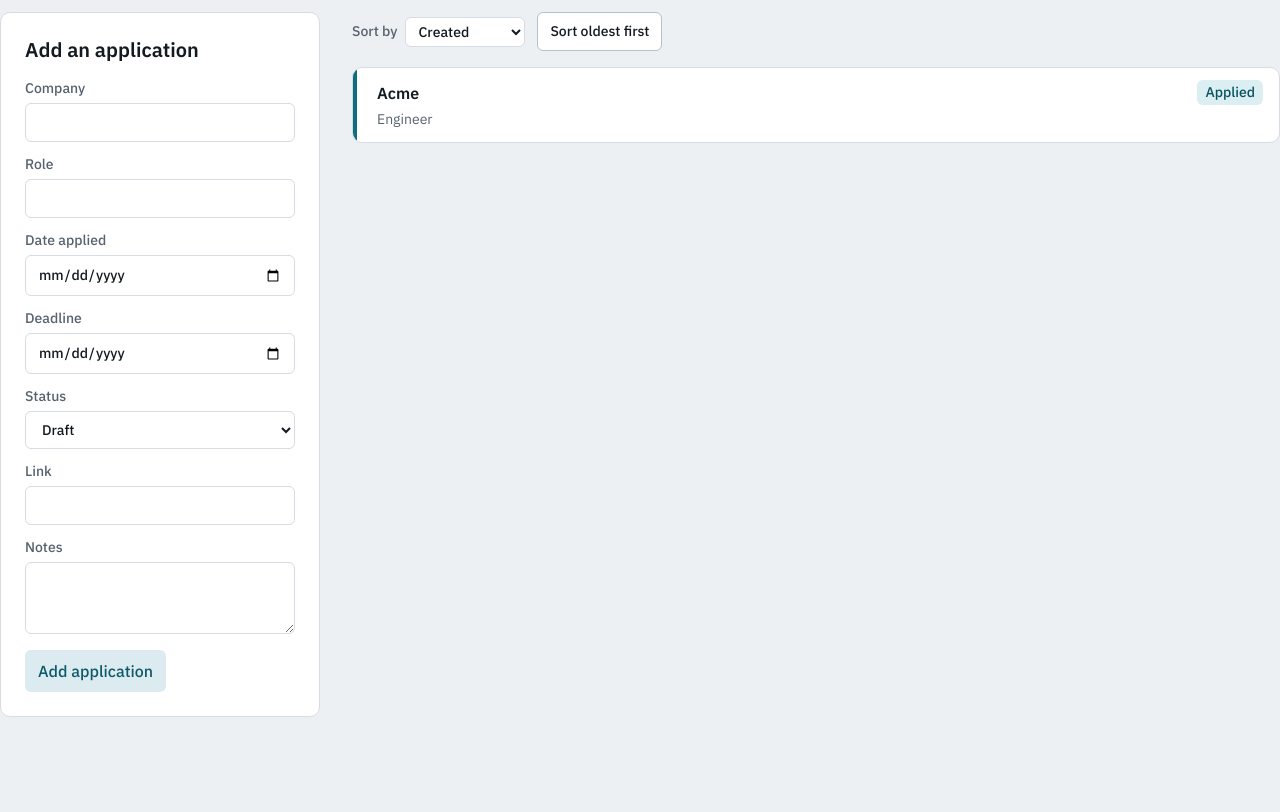
Test: a failed add shows the server error message
Expected: the button "Acme Engineer Applied" is shown, [377,80,1263,130]
Type "Globex" into the field labelled "Company" at (160, 122), box [25,103,295,142]
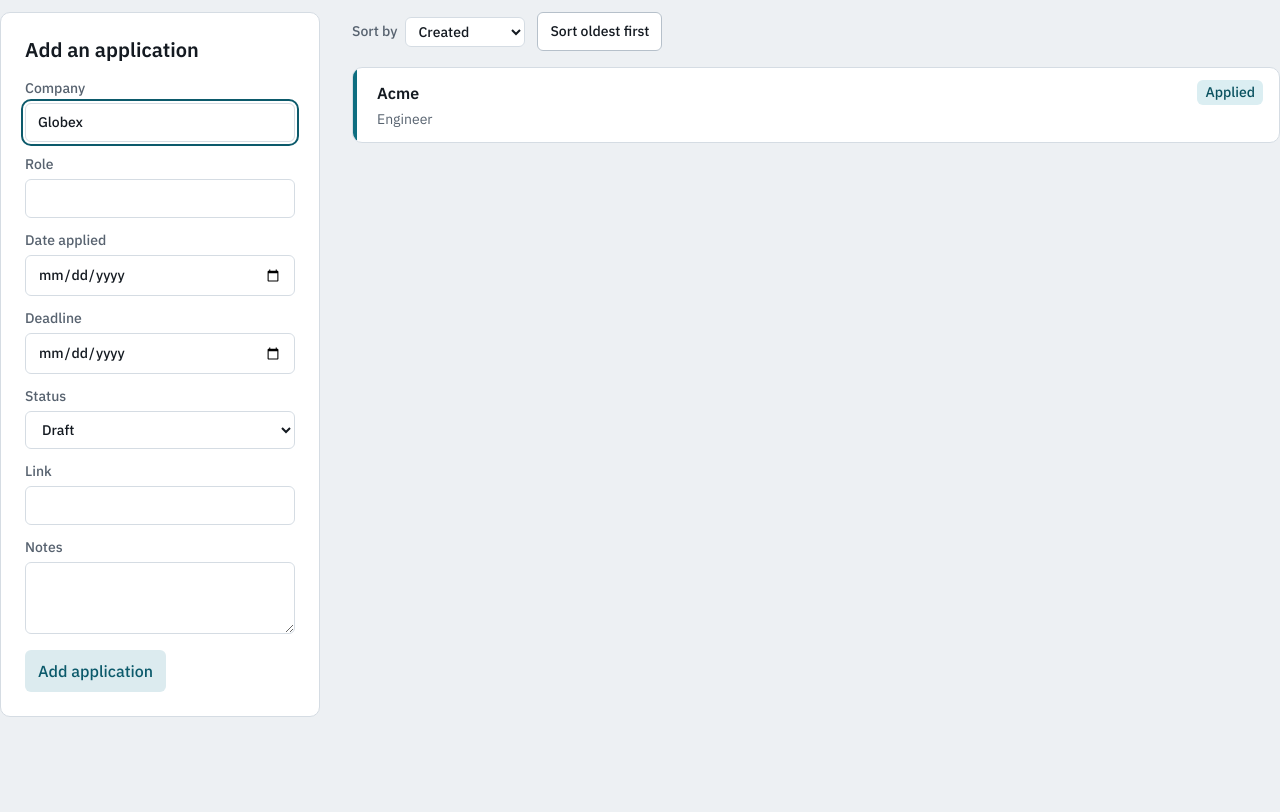
Type "Engineer" into the field labelled "Role" at (160, 198), box [25,179,295,218]
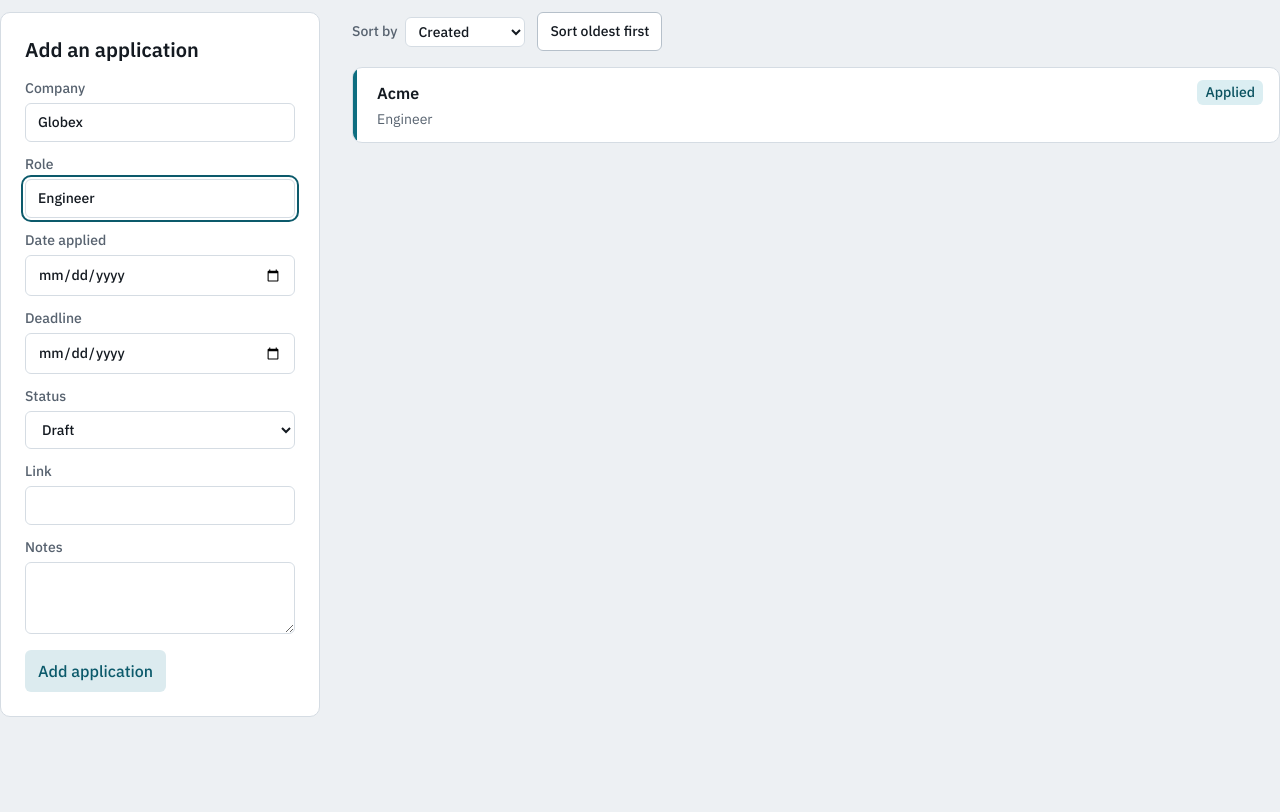
Click the button "Add application" at (96, 671), box [25,650,166,692]
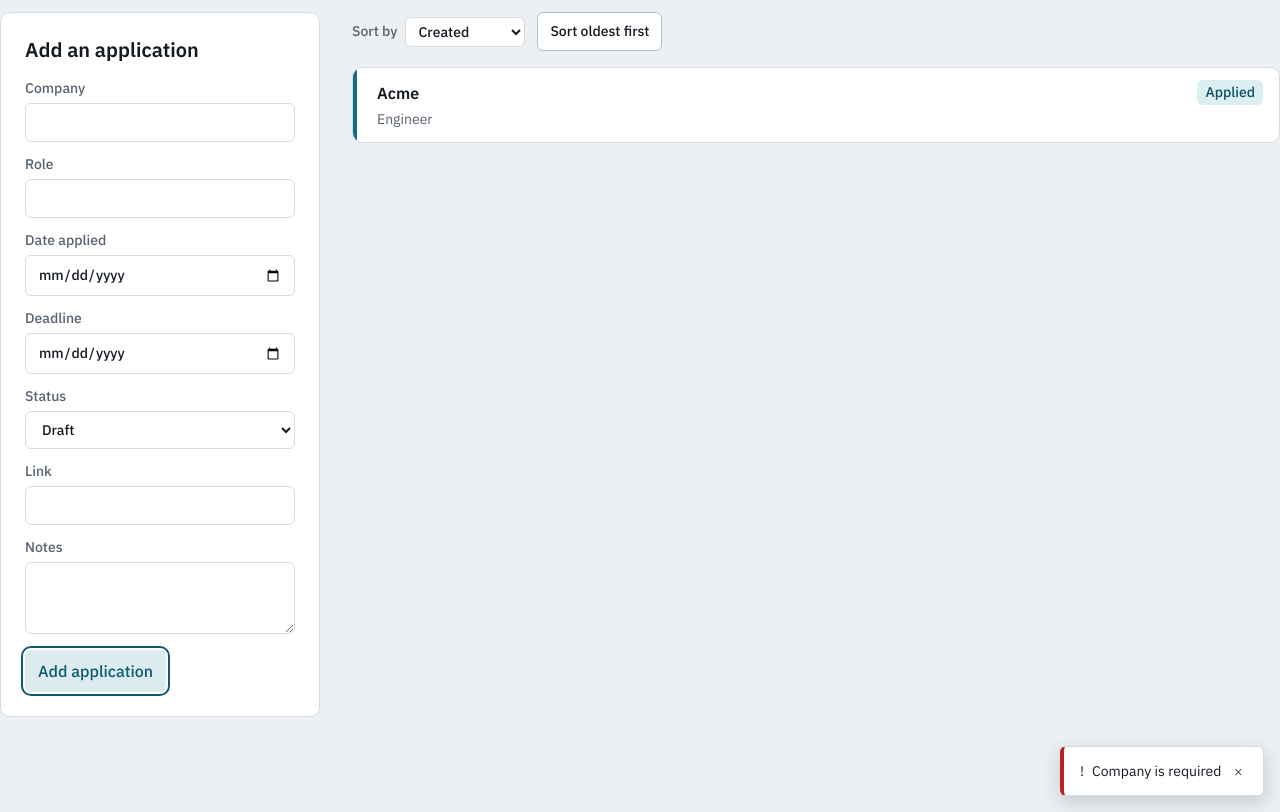
Result: the message shows "Company is required" at [1092,762,1221,780]
